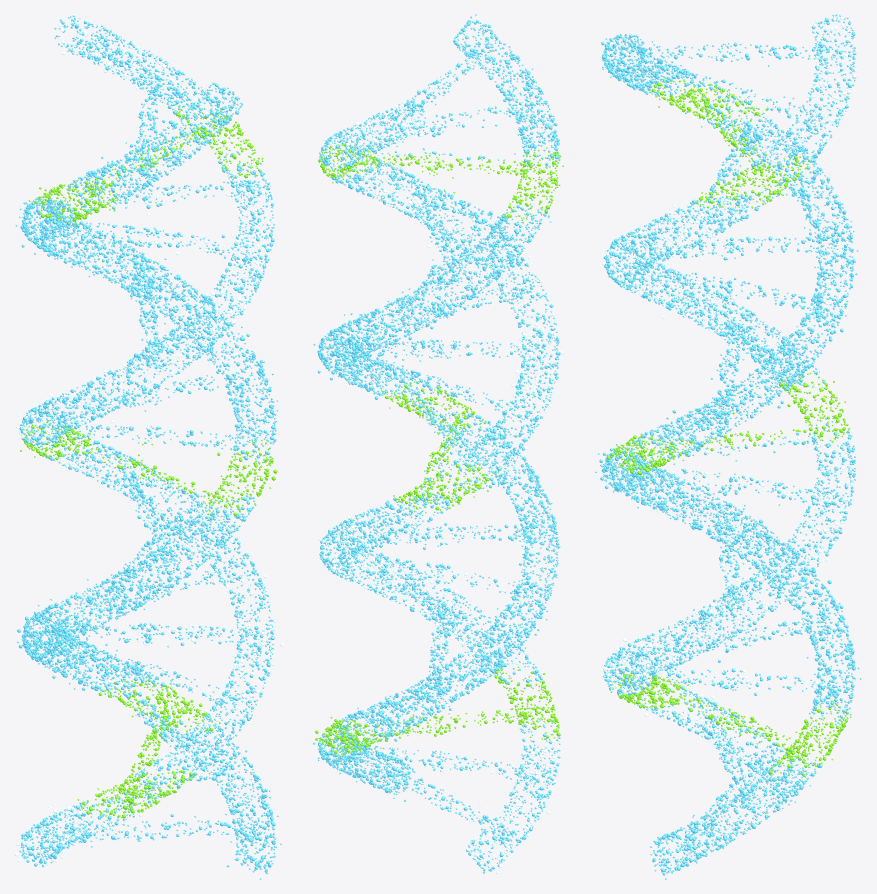
Rendered from dna-ldgenx-particles.glb.
The picture shows the model from 3 angles, left to right: view 1: azimuth 30°, elevation 25°; view 2: azimuth 150°, elevation 25°; view 3: azimuth 270°, elevation 25°; orthographic projection. The views are drawn at different scales.
Visible parts, largest first — view 1: DNA_Particles_Region_C_DNA_Ice_Blue, DNA_Particles_Region_B_DNA_Ice_Blue, DNA_Particles_Region_A_DNA_Ice_Blue, DNA_Particles_Region_C_DNA_Pearl_Highlights, DNA_Particles_Region_A_DNA_Pearl_Highlights, DNA_Particles_Region_A_DNA_LDgenX_Green, DNA_Particles_Region_B_DNA_Pearl_Highlights, DNA_Particles_Region_C_DNA_LDgenX_Green, DNA_Particles_Region_B_DNA_LDgenX_Green; view 2: DNA_Particles_Region_C_DNA_Ice_Blue, DNA_Particles_Region_A_DNA_Ice_Blue, DNA_Particles_Region_B_DNA_Ice_Blue, DNA_Particles_Region_A_DNA_Pearl_Highlights, DNA_Particles_Region_C_DNA_Pearl_Highlights, DNA_Particles_Region_B_DNA_Pearl_Highlights, DNA_Particles_Region_A_DNA_LDgenX_Green, DNA_Particles_Region_C_DNA_LDgenX_Green, DNA_Particles_Region_B_DNA_LDgenX_Green; view 3: DNA_Particles_Region_C_DNA_Ice_Blue, DNA_Particles_Region_A_DNA_Ice_Blue, DNA_Particles_Region_B_DNA_Ice_Blue, DNA_Particles_Region_C_DNA_Pearl_Highlights, DNA_Particles_Region_A_DNA_Pearl_Highlights, DNA_Particles_Region_B_DNA_Pearl_Highlights, DNA_Particles_Region_A_DNA_LDgenX_Green, DNA_Particles_Region_C_DNA_LDgenX_Green, DNA_Particles_Region_B_DNA_LDgenX_Green.
Part boxes in pixels (x1=…): DNA_Particles_Region_C_DNA_Ice_Blue: x1=15, y1=15, x2=274, y2=379; DNA_Particles_Region_B_DNA_Ice_Blue: x1=19, y1=275, x2=278, y2=632; DNA_Particles_Region_A_DNA_Ice_Blue: x1=17, y1=555, x2=281, y2=879; DNA_Particles_Region_C_DNA_Pearl_Highlights: x1=45, y1=14, x2=281, y2=383; DNA_Particles_Region_A_DNA_Pearl_Highlights: x1=14, y1=551, x2=284, y2=874; DNA_Particles_Region_A_DNA_LDgenX_Green: x1=77, y1=679, x2=220, y2=818; DNA_Particles_Region_B_DNA_Pearl_Highlights: x1=16, y1=315, x2=255, y2=610; DNA_Particles_Region_C_DNA_LDgenX_Green: x1=29, y1=107, x2=263, y2=224; DNA_Particles_Region_B_DNA_LDgenX_Green: x1=20, y1=419, x2=277, y2=515; DNA_Particles_Region_C_DNA_Ice_Blue: x1=319, y1=14, x2=560, y2=354; DNA_Particles_Region_A_DNA_Ice_Blue: x1=313, y1=543, x2=560, y2=873; DNA_Particles_Region_B_DNA_Ice_Blue: x1=313, y1=294, x2=560, y2=597; DNA_Particles_Region_A_DNA_Pearl_Highlights: x1=325, y1=546, x2=566, y2=879; DNA_Particles_Region_C_DNA_Pearl_Highlights: x1=317, y1=46, x2=549, y2=337; DNA_Particles_Region_B_DNA_Pearl_Highlights: x1=313, y1=290, x2=563, y2=586; DNA_Particles_Region_A_DNA_LDgenX_Green: x1=315, y1=667, x2=560, y2=759; DNA_Particles_Region_C_DNA_LDgenX_Green: x1=318, y1=143, x2=563, y2=223; DNA_Particles_Region_B_DNA_LDgenX_Green: x1=381, y1=381, x2=499, y2=513; DNA_Particles_Region_C_DNA_Ice_Blue: x1=601, y1=14, x2=858, y2=335; DNA_Particles_Region_A_DNA_Ice_Blue: x1=603, y1=506, x2=861, y2=879; DNA_Particles_Region_B_DNA_Ice_Blue: x1=595, y1=263, x2=855, y2=611; DNA_Particles_Region_C_DNA_Pearl_Highlights: x1=600, y1=16, x2=862, y2=311; DNA_Particles_Region_A_DNA_Pearl_Highlights: x1=602, y1=516, x2=833, y2=849; DNA_Particles_Region_B_DNA_Pearl_Highlights: x1=622, y1=266, x2=857, y2=612; DNA_Particles_Region_A_DNA_LDgenX_Green: x1=610, y1=670, x2=851, y2=777; DNA_Particles_Region_C_DNA_LDgenX_Green: x1=649, y1=79, x2=808, y2=208; DNA_Particles_Region_B_DNA_LDgenX_Green: x1=606, y1=368, x2=849, y2=477.
Size of the model in its own units: 1.59 by 5.42 by 1.61.
